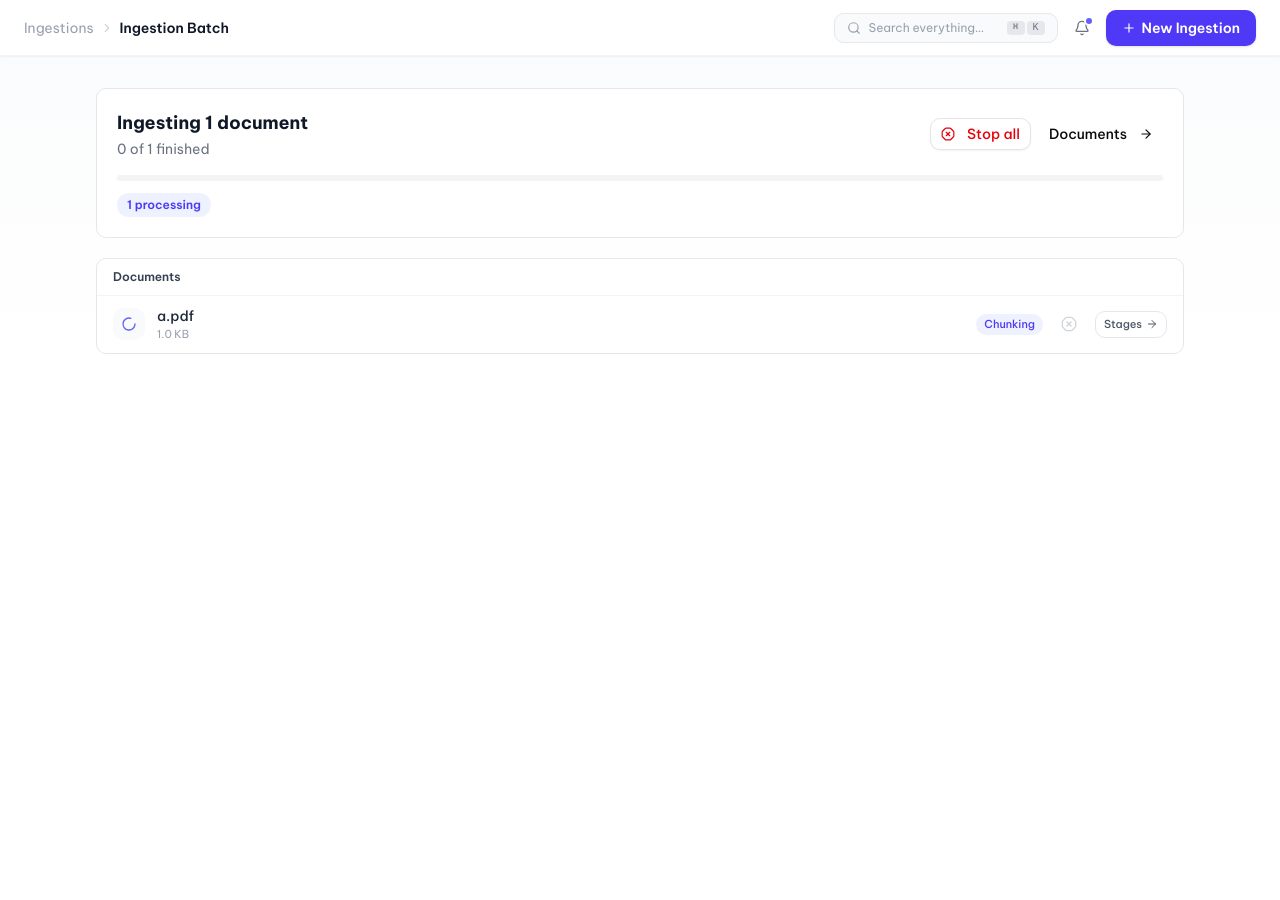
batch cancellation › confirms before discarding work, and says the file is kept
This screenshot has width=1280, height=900.
Step 1. Click the button "Stop all" → (980, 134), box [930,118,1031,150]
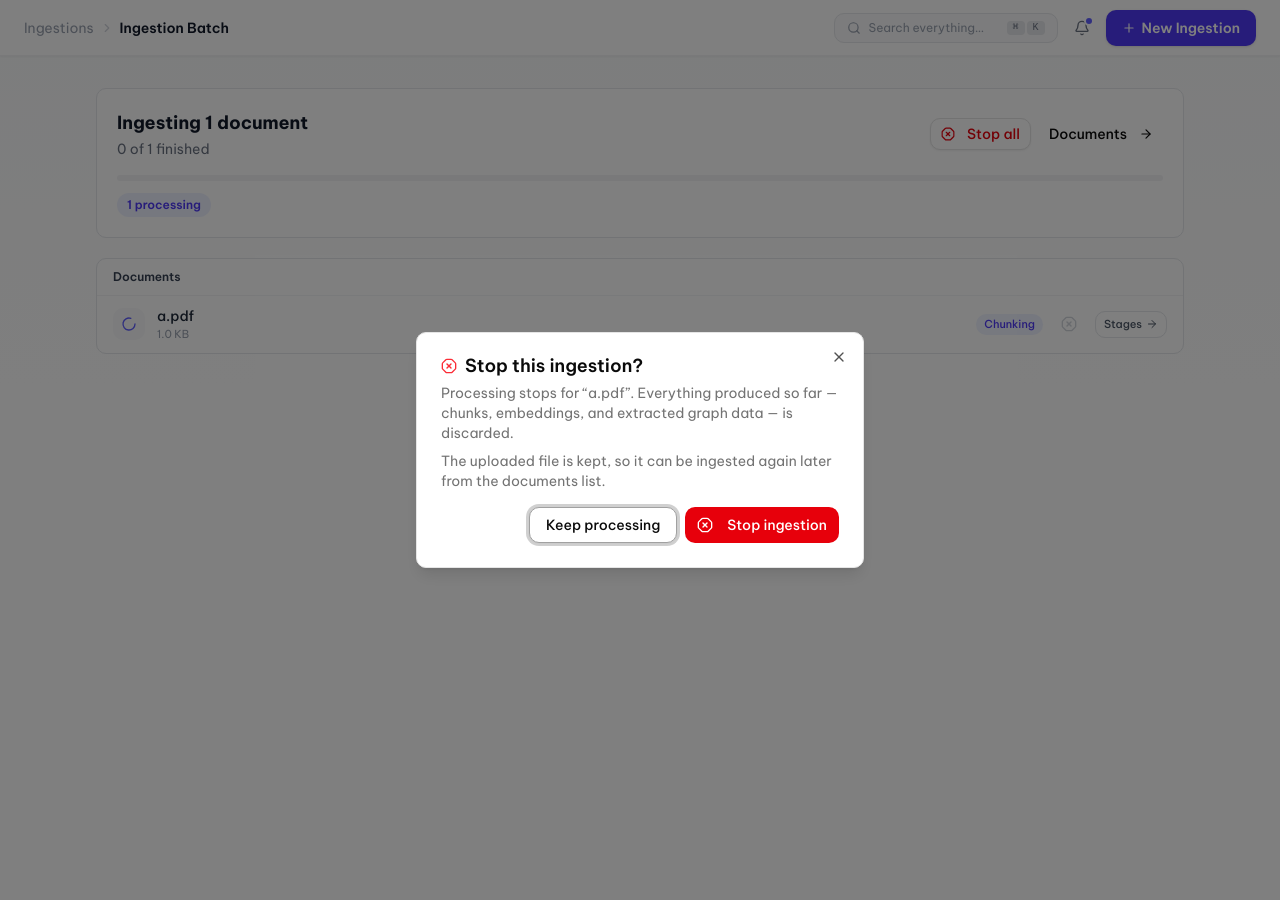
Expected: the text "discarded" is shown, [441,384,838,442]
Expected: the text "uploaded file is kept" is shown, [441,452,630,470]
